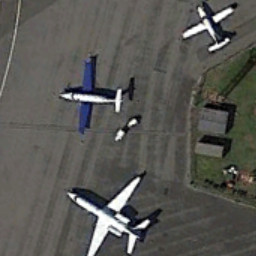Airplane: (63, 168, 155, 256), (57, 48, 124, 140), (177, 2, 241, 58)
